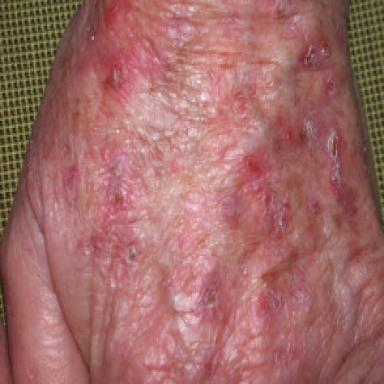eczema: (57, 4, 354, 336)
